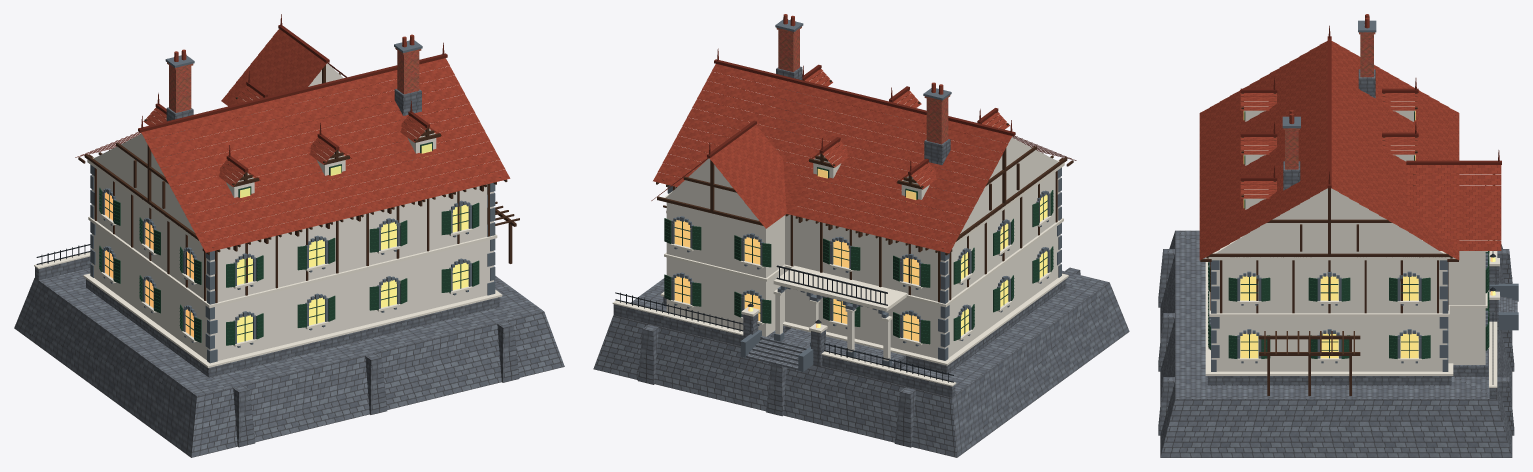
Rendered from fv_ltk_02_ly_thuong_kiet_10_colombage_garden_villa.glb.
3 renders of one model, left to right at view 1: azimuth 30°, elevation 25°; view 2: azimuth 150°, elevation 25°; view 3: azimuth 270°, elevation 25°, orthographic. The views are drawn at different scales.
Visible parts, largest first — view 1: Foundation_Skirt_Neg3p5m, Normandy_Brittany_Layered_Roof, Villa_Stucco_Walls, Molded_Cornices_And_Sills, PineGreen_Louvered_Shutters, Stone_Quoins_And_Arches, Exposed_Timber_Trusses_And_Rafters, Warm_Night_Windows_20h00_Blend, Roof_Ridges_Caps_And_Finials, Brick_Chimney_Stacks; view 2: Foundation_Skirt_Neg3p5m, Normandy_Brittany_Layered_Roof, Villa_Stucco_Walls, Molded_Cornices_And_Sills, Stone_Quoins_And_Arches, PineGreen_Louvered_Shutters, Exposed_Timber_Trusses_And_Rafters, Warm_Night_Windows_20h00_Blend, Roof_Ridges_Caps_And_Finials, Wrought_Iron_Balustrades_And_Gate, Brick_Chimney_Stacks; view 3: Normandy_Brittany_Layered_Roof, Foundation_Skirt_Neg3p5m, Villa_Stucco_Walls, Molded_Cornices_And_Sills, Exposed_Timber_Trusses_And_Rafters, Stone_Quoins_And_Arches, PineGreen_Louvered_Shutters, Warm_Night_Windows_20h00_Blend, Roof_Ridges_Caps_And_Finials, Brick_Chimney_Stacks.
Part boxes in pixels (box(x1,y1,x2,y2)): Foundation_Skirt_Neg3p5m: box(14, 89, 564, 457); Normandy_Brittany_Layered_Roof: box(141, 29, 510, 252); Villa_Stucco_Walls: box(91, 63, 493, 360); Molded_Cornices_And_Sills: box(34, 95, 502, 367); PineGreen_Louvered_Shutters: box(99, 142, 479, 345); Stone_Quoins_And_Arches: box(90, 40, 495, 363); Exposed_Timber_Trusses_And_Rafters: box(78, 65, 519, 302); Warm_Night_Windows_20h00_Blend: box(105, 143, 468, 342); Roof_Ridges_Caps_And_Finials: box(75, 14, 447, 180); Brick_Chimney_Stacks: box(167, 48, 421, 112); Foundation_Skirt_Neg3p5m: box(593, 66, 1129, 457); Normandy_Brittany_Layered_Roof: box(653, 14, 1012, 253); Villa_Stucco_Walls: box(665, 95, 1060, 360); Molded_Cornices_And_Sills: box(612, 79, 1068, 386); Stone_Quoins_And_Arches: box(667, 19, 1061, 371); PineGreen_Louvered_Shutters: box(664, 167, 1053, 344); Exposed_Timber_Trusses_And_Rafters: box(656, 68, 1073, 302); Warm_Night_Windows_20h00_Blend: box(674, 168, 1047, 341); Roof_Ridges_Caps_And_Finials: box(651, 48, 1076, 200); Wrought_Iron_Balustrades_And_Gate: box(615, 265, 953, 382); Brick_Chimney_Stacks: box(776, 26, 950, 144); Normandy_Brittany_Layered_Roof: box(1199, 14, 1501, 260); Foundation_Skirt_Neg3p5m: box(1158, 69, 1517, 457); Villa_Stucco_Walls: box(1211, 111, 1485, 371); Molded_Cornices_And_Sills: box(1205, 101, 1499, 387); Exposed_Timber_Trusses_And_Rafters: box(1200, 93, 1494, 395); Stone_Quoins_And_Arches: box(1209, 20, 1518, 371); PineGreen_Louvered_Shutters: box(1208, 111, 1489, 358); Warm_Night_Windows_20h00_Blend: box(1240, 110, 1495, 358); Roof_Ridges_Caps_And_Finials: box(1240, 25, 1501, 188); Brick_Chimney_Stacks: box(1283, 32, 1375, 169).
Size of the model in its own units: 26.32 by 20.3 by 21.72.
Materials: 12 (3 with a texture image).
